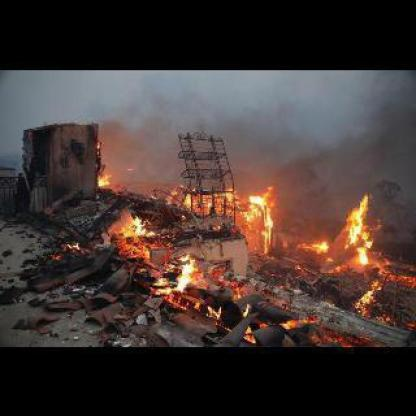fire: (109, 208, 212, 302), (188, 168, 288, 261), (310, 187, 380, 263), (166, 296, 223, 328), (348, 274, 386, 320), (278, 312, 320, 338), (225, 282, 253, 319), (88, 165, 117, 193)
